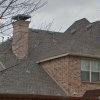Chimney: (8, 9, 36, 66)
